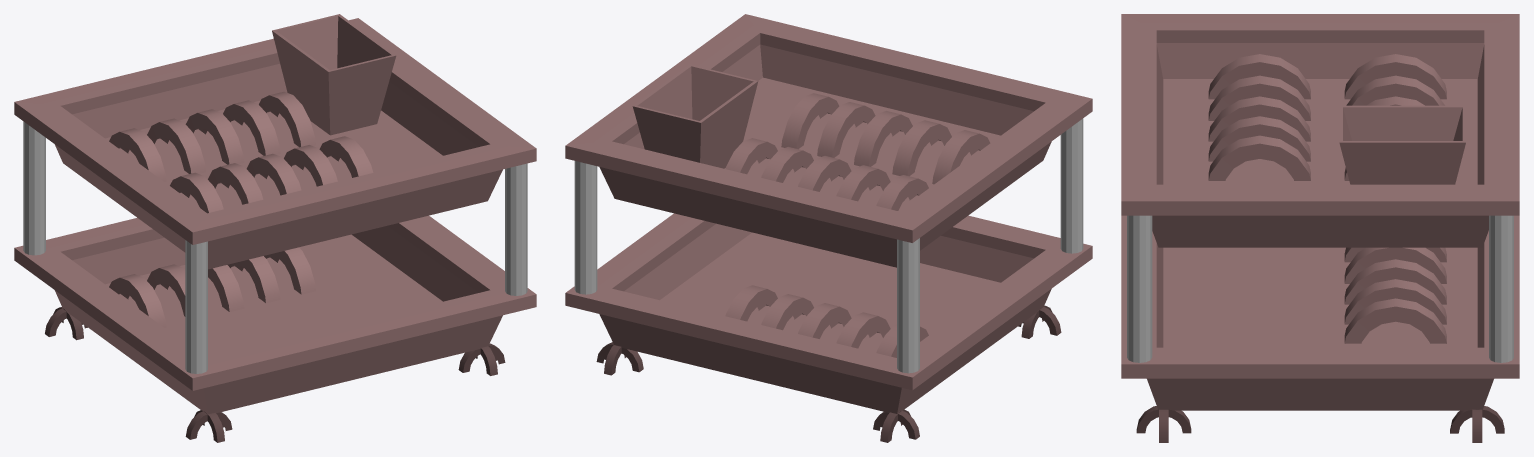
File: lagayan_plato.fbx
3 views of the same model, side by side, from view 1: azimuth 30°, elevation 25°; view 2: azimuth 150°, elevation 25°; view 3: azimuth 270°, elevation 25° (orthographic). The views are drawn at different scales.
Visible parts, largest first — view 1: pCylinder26; view 2: pCylinder26; view 3: pCylinder26.
Boxes of the visible parts, left/top/right/bottom form: pCylinder26: left=14, top=14, right=536, bottom=442; pCylinder26: left=565, top=14, right=1092, bottom=442; pCylinder26: left=1121, top=14, right=1519, bottom=442.
Bounding box in the file's own units: 8.27 × 5.86 × 7.43.
